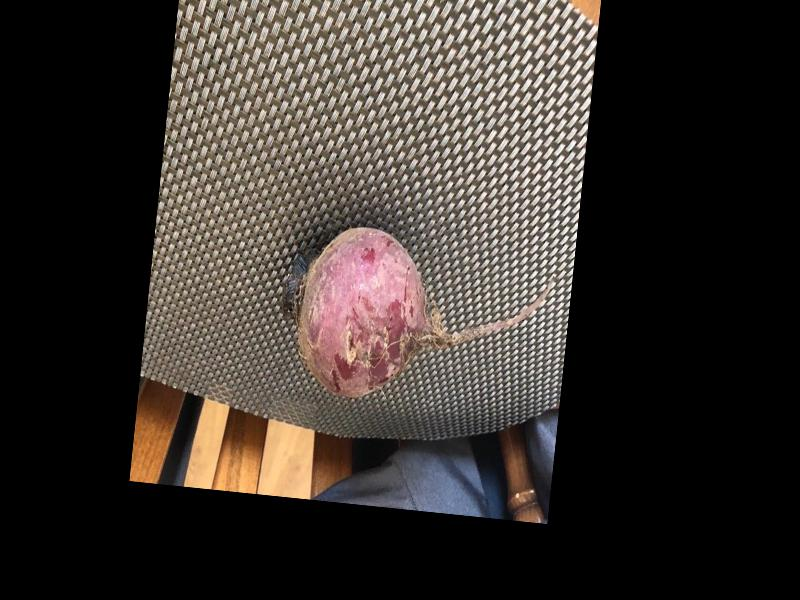Beet: (269, 220, 552, 418)
